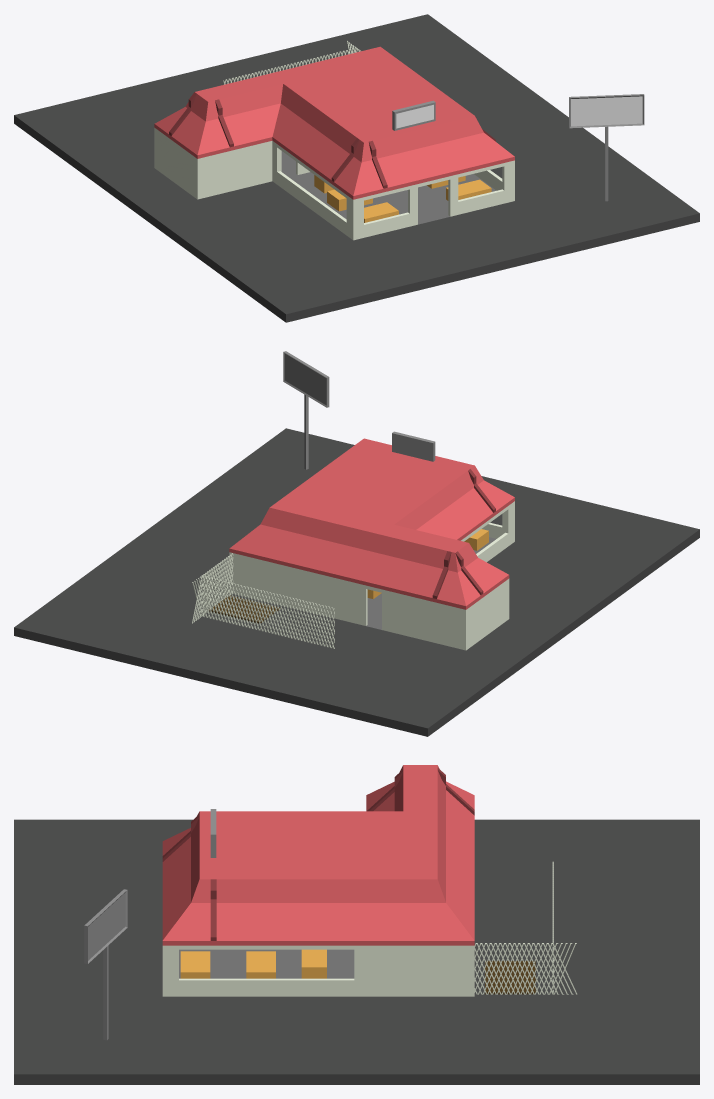
Rendered from restaurant_furnishing3.glb.
3 renders of one model, top to bottom at view 1: azimuth 30°, elevation 25°; view 2: azimuth 150°, elevation 25°; view 3: azimuth 270°, elevation 25°, orthographic. The views are drawn at different scales.
Visible parts, largest first — view 1: ground, roof, front_wall, manager_front, billboard, floor, left_wall, managaer_side, table2, Cube, back_fence, table; view 2: ground, roof, back_wall, back_fence, manager_back, billboard, managaer_side, back_fence.001, Cube, left_wall, stock_platform; view 3: ground, roof, right_wall, back_fence.001, floor, billboard, stock_platform, table2, table, order_counter.
Boxes of the visible parts, box(x1,y1,x2,y2) form: ground: box(14, 14, 699, 322); roof: box(154, 46, 514, 199); front_wall: box(351, 160, 514, 240); manager_front: box(195, 141, 272, 199); billboard: box(569, 94, 644, 201); floor: box(281, 151, 496, 224); left_wall: box(272, 141, 351, 238); managaer_side: box(156, 129, 195, 197); table2: box(364, 179, 491, 222); Cube: box(392, 100, 435, 130); back_fence: box(223, 47, 356, 84); table: box(327, 176, 465, 211); ground: box(14, 428, 699, 736); roof: box(229, 438, 514, 609); back_wall: box(229, 552, 391, 631); back_fence: box(201, 575, 334, 648); manager_back: box(391, 591, 467, 650); billboard: box(283, 351, 329, 469); managaer_side: box(468, 580, 507, 648); back_fence.001: box(192, 553, 233, 623); Cube: box(392, 431, 435, 461); left_wall: box(461, 503, 512, 562); stock_platform: box(209, 595, 279, 623); ground: box(14, 819, 699, 1084); roof: box(162, 765, 474, 945); right_wall: box(167, 945, 469, 996); back_fence.001: box(474, 943, 577, 994); floor: box(179, 949, 354, 978); billboard: box(84, 889, 127, 1040); stock_platform: box(485, 961, 535, 994); table2: box(180, 951, 210, 978); table: box(246, 951, 275, 978); order_counter: box(301, 949, 326, 978).
Size of the model in its own units: 46.43 by 12.1 by 52.87.
24 materials, 12 textured.
